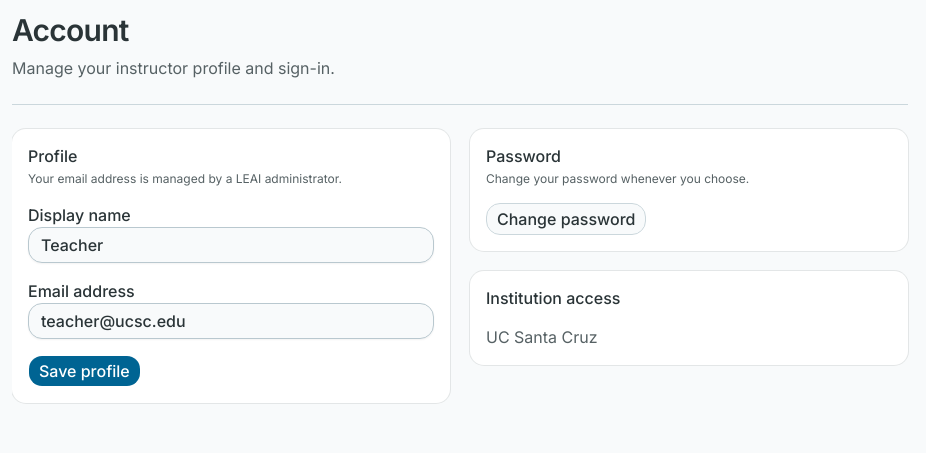
Test: saves the profile display name through the canonical API
This screenshot has width=926, height=453.
Replace the text in the field labelled "Display name" with "Updated Teacher" at (231, 245), box x1=28 y1=227 x2=434 y2=263
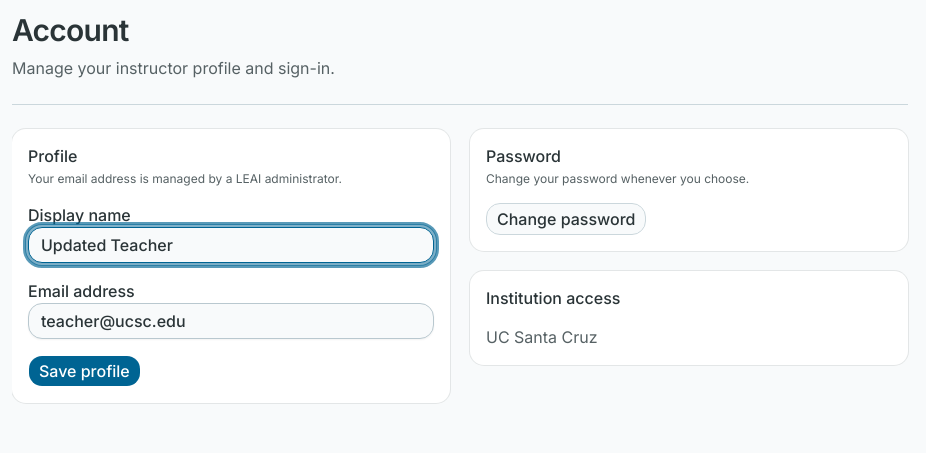
Click the button "Save profile" at (84, 371), box x1=28 y1=355 x2=141 y2=387
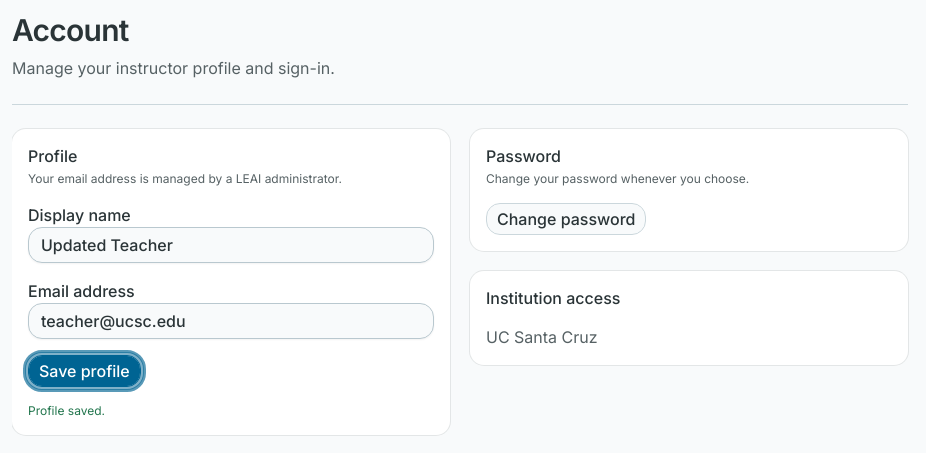
expect the text "Profile saved." is shown: met, box x1=28 y1=403 x2=105 y2=418
